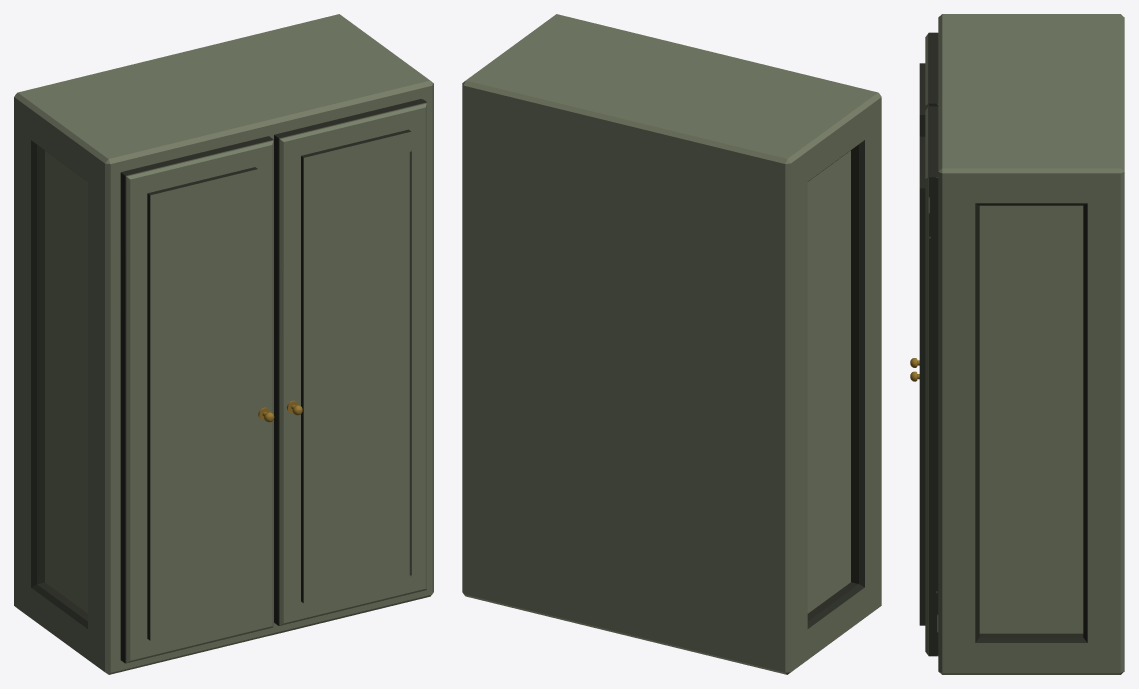
File: HangingCabinet.obj
3 renders of one model, left to right at view 1: azimuth 30°, elevation 25°; view 2: azimuth 150°, elevation 25°; view 3: azimuth 270°, elevation 25°, orthographic.
Visible parts, largest first — view 1: Hanging_Cabinet_Hanging_Cabinet; view 2: Hanging_Cabinet_Hanging_Cabinet; view 3: Hanging_Cabinet_Hanging_Cabinet.
Boxes of the visible parts, x1=… form: Hanging_Cabinet_Hanging_Cabinet: x1=14, y1=14, x2=433, y2=674; Hanging_Cabinet_Hanging_Cabinet: x1=462, y1=14, x2=881, y2=674; Hanging_Cabinet_Hanging_Cabinet: x1=910, y1=14, x2=1124, y2=674.
Size of the model in its own units: 1 by 1.5 by 0.5748.
Materials: 1 (1 with a texture image).
